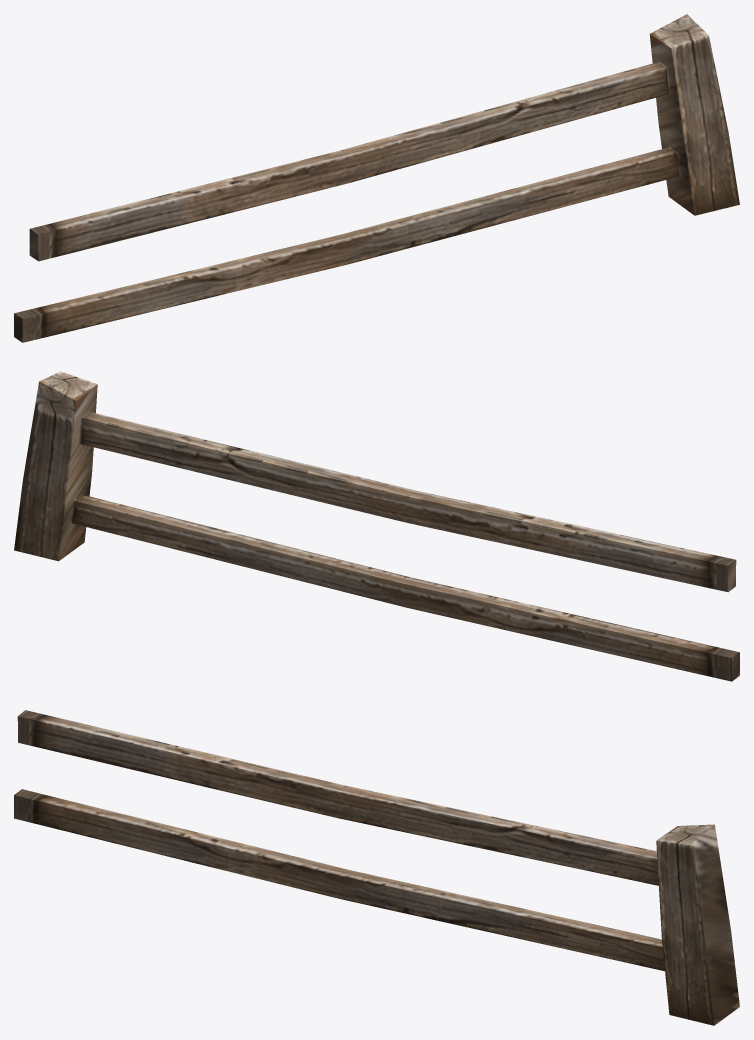
File: start_fence_04.glb
3 renders of one model, top to bottom at view 1: azimuth 30°, elevation 25°; view 2: azimuth 150°, elevation 25°; view 3: azimuth 330°, elevation 25°, orthographic.
Parts seen in each view (by area): view 1: start_fence_04_game; view 2: start_fence_04_game; view 3: start_fence_04_game.
Part boxes in pixels (x1,y1,x2,y2): start_fence_04_game: (14, 14, 739, 342); start_fence_04_game: (14, 371, 739, 681); start_fence_04_game: (14, 710, 739, 1025).
Size of the model in its own units: 4.74 by 1.13 by 0.3229.
Materials: 1 (1 with a texture image).
